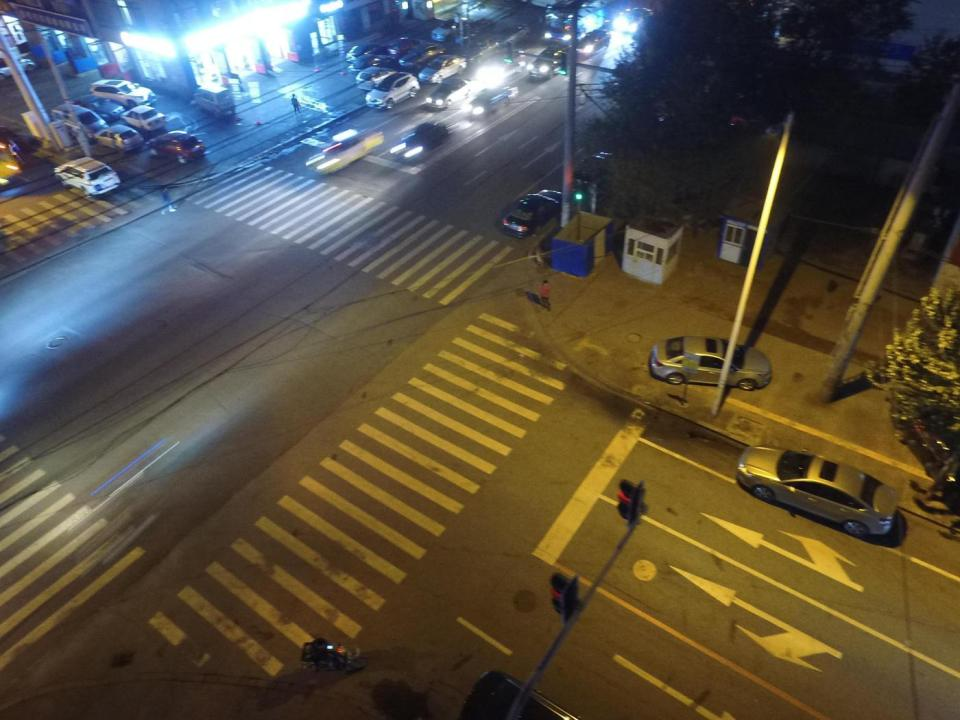bus: (543, 0, 604, 49)
car: (736, 442, 898, 538), (648, 337, 774, 391), (306, 126, 384, 174), (503, 191, 568, 237), (53, 156, 121, 199), (390, 122, 449, 163), (90, 75, 157, 108), (368, 72, 420, 109), (571, 152, 622, 187), (148, 132, 206, 162), (466, 87, 520, 119), (425, 79, 479, 108), (527, 46, 573, 80), (96, 123, 144, 153), (420, 53, 466, 82), (78, 92, 122, 122), (121, 106, 168, 132), (454, 18, 494, 46), (400, 43, 443, 68), (1, 53, 36, 81), (574, 30, 610, 56), (354, 66, 391, 90), (612, 11, 654, 32), (0, 144, 20, 188), (349, 55, 392, 72), (344, 42, 389, 58), (429, 21, 462, 41), (388, 40, 425, 53)
van: (52, 100, 106, 140), (195, 85, 236, 118)
